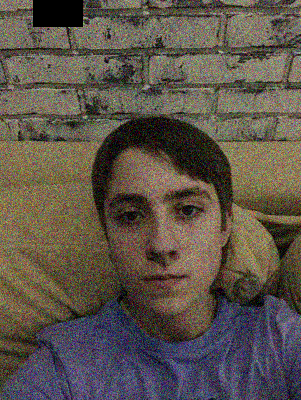without_mask: (104, 182, 220, 317)
